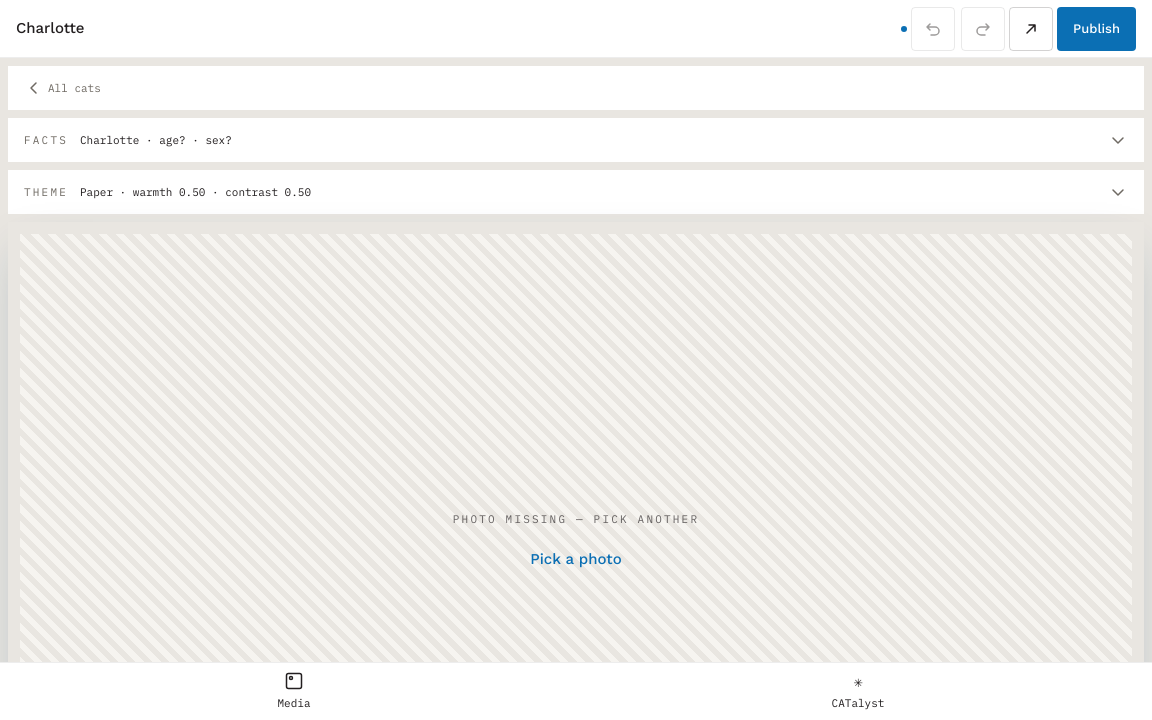
it: the CATalyst drawer's state machine › a send with the Send button from Full drops to Peek too
The image size is (1152, 720).
Click the button "✳ CATalyst".
click(858, 692)  # box 580,663 -> 1136,719
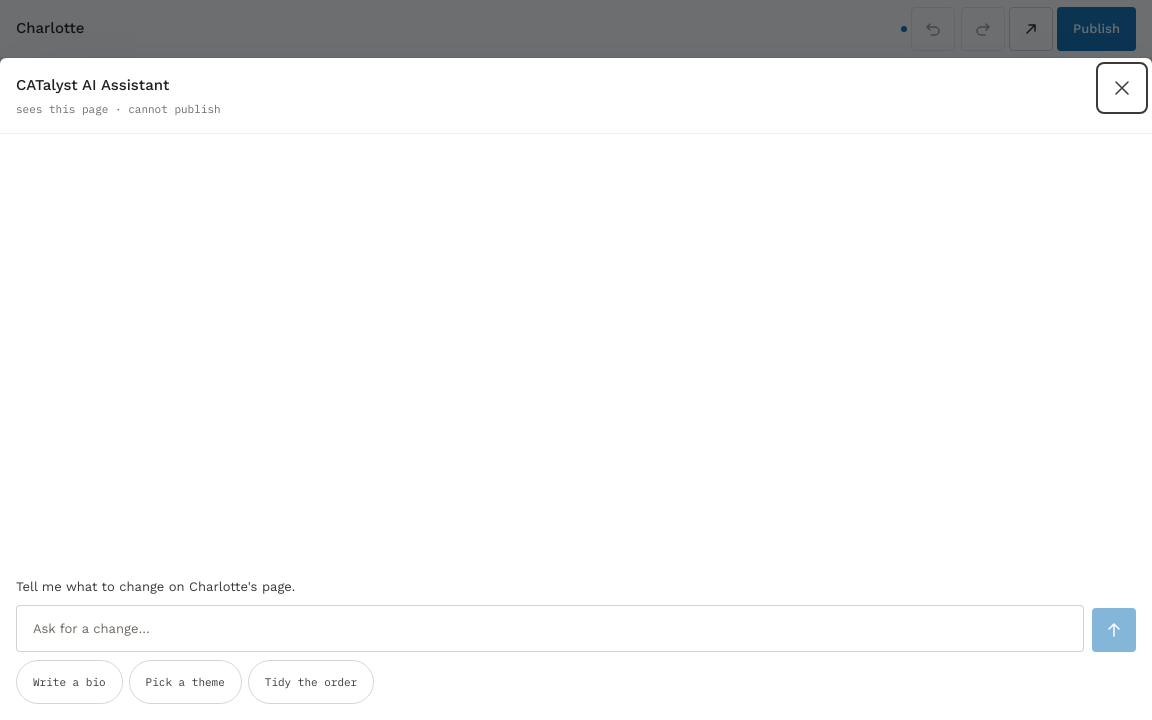
Type "Add a photo." into the text box with placeholder "Ask for a change…".
click(550, 628); type("Add a photo.")  # box 16,605 -> 1084,652
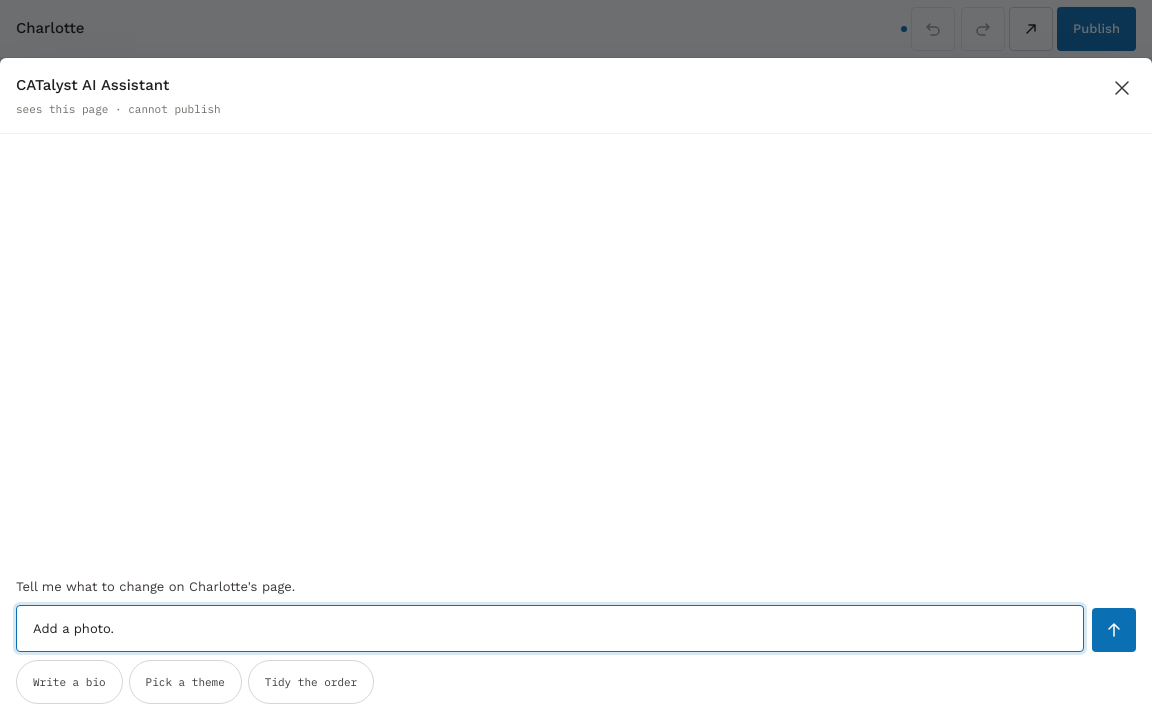
Click the button named "Send".
click(1114, 630)  # box 1092,608 -> 1136,652
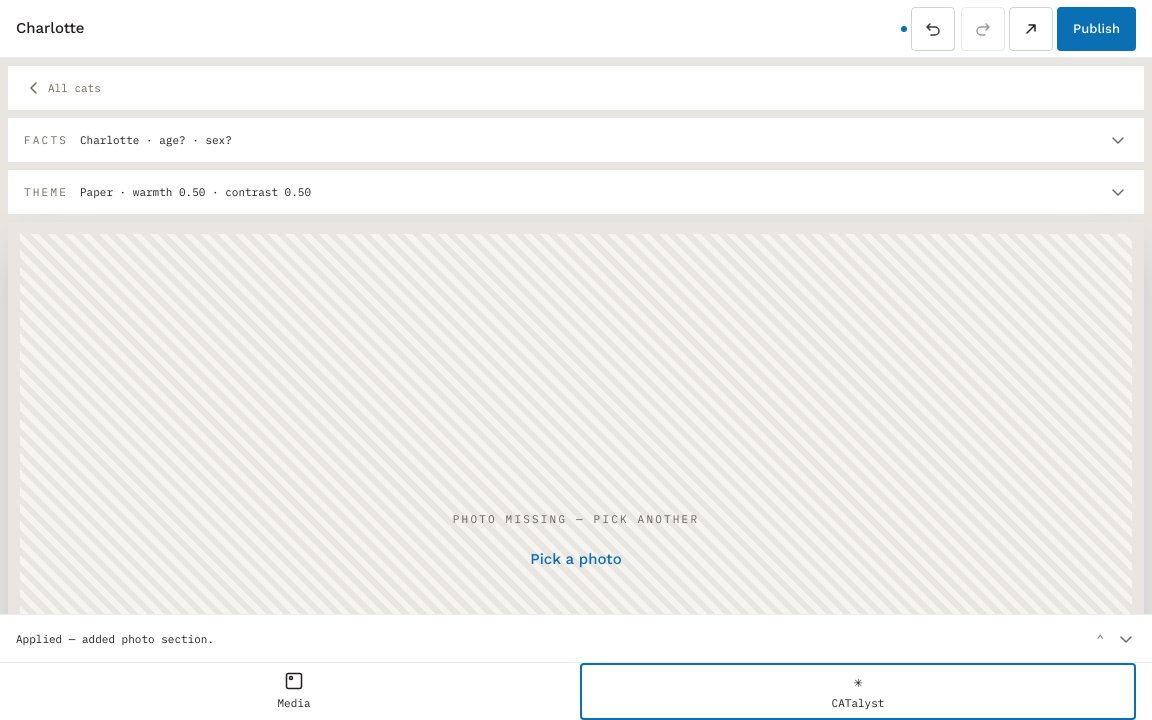
expect the text "CATalyst AI Assistant" is gone: met
expect the button with aria-label "open CATalyst" shows "Applied — added photo section.": met, box 0,615 -> 1104,663
